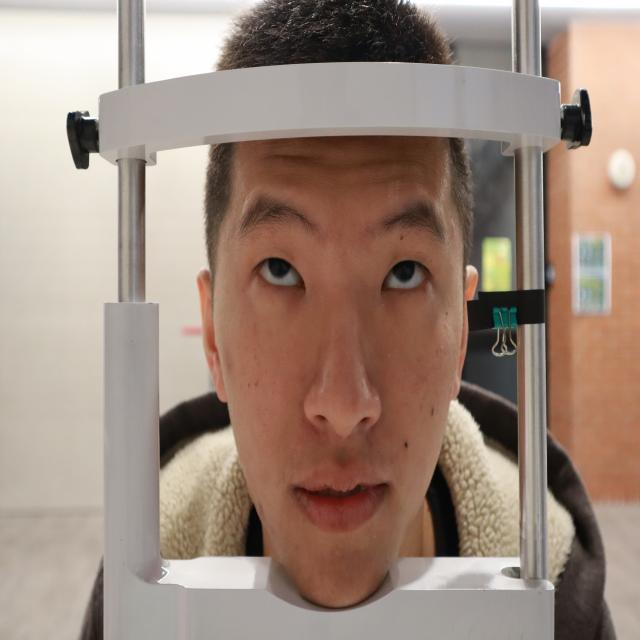eye: (248, 240, 316, 299), (373, 250, 443, 304)
gaze: (268, 252, 291, 280), (392, 257, 416, 283)
